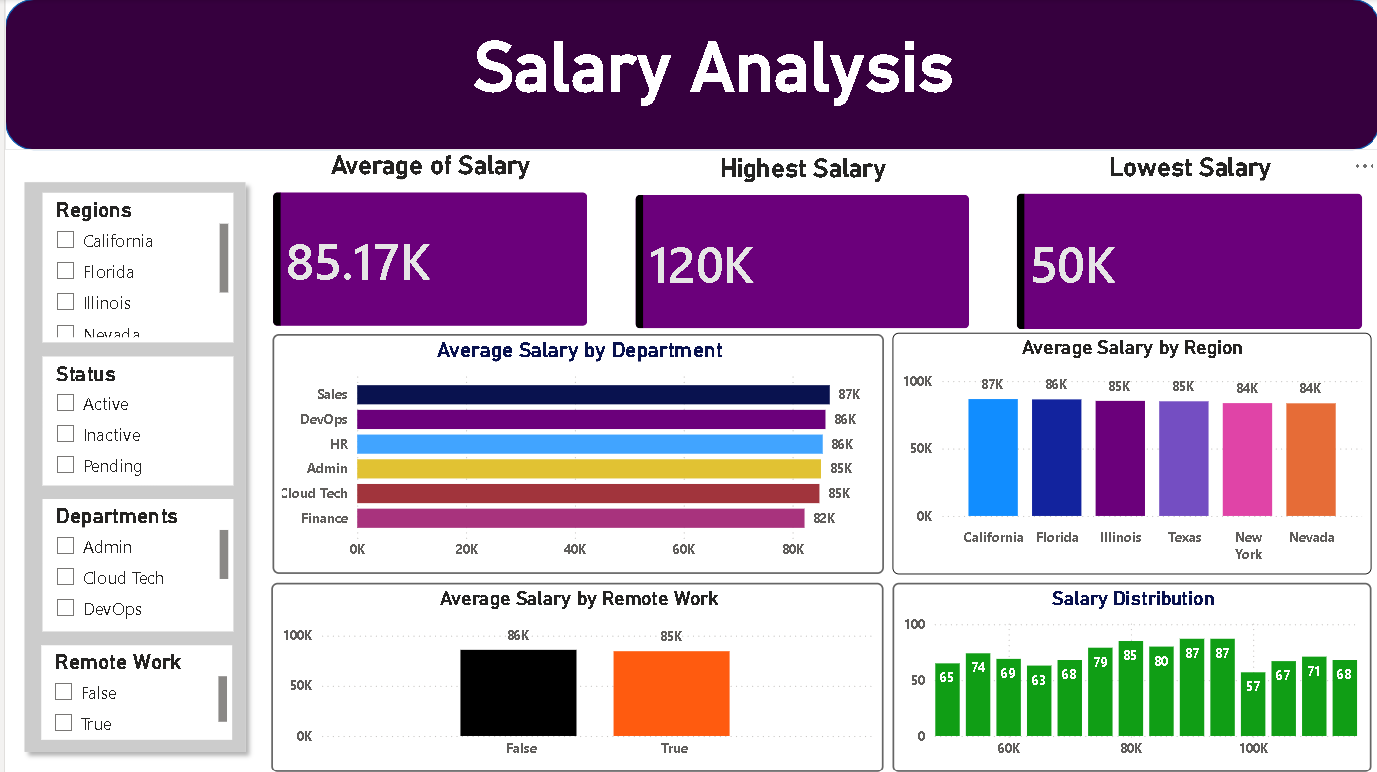

The dashboard page shown, as its layout file describes it:
{"tool":"powerbi","page":{"name":"Page 2","canvas":[1280,720],"ordinal":1},"visuals":[{"type":"cardVisual","title":"Average of Salary","fields":{"Data":["Avg(public employee_details.salary)"]},"box":[232.6,140.7,326.7,180.2],"z":0},{"type":"cardVisual","title":"Highest Salary","fields":{"Data":["public employee_details.Highest Salary"]},"box":[569.8,143,344.2,180.2],"z":1000},{"type":"cardVisual","title":"Lowest Salary","fields":{"Data":["public employee_details.Lowest Salary"]},"box":[924.4,141.9,355.8,182.6],"z":2000},{"type":"clusteredBarChart","title":"Average Salary by Department","fields":{"Category":["public employee_details.department"],"Y":["Avg(public employee_details.salary)"]},"box":[248.8,311.6,568.6,223.3],"z":3000},{"type":"shape","box":[0,0,1280.2,140.7],"z":4000},{"type":"textbox","box":[430.2,19.8,850,132.6],"z":5000},{"type":"clusteredColumnChart","title":"Average Salary by Region","fields":{"Category":["public employee_details.region"],"Y":["Avg(public employee_details.salary)"]},"box":[825.6,310.5,445.4,224.4],"z":6000},{"type":"clusteredColumnChart","title":"Average Salary by Remote Work","fields":{"Category":["public employee_details.remote_work"],"Y":["Avg(public employee_details.salary)"]},"box":[247.7,543,569.8,176.7],"z":7000},{"type":"clusteredColumnChart","fields":{"Y":["CountNonNull(public employee_details.employee_id)"],"Category":["public employee_details.salary (bins)"]},"box":[825.6,543,445.4,176.7],"z":8000},{"type":"shape","box":[9.3,161.6,223.3,547.7],"z":13000},{"type":"slicer","fields":{"Values":["public employee_details.region"]},"box":[34.9,180.2,177.9,139.5],"z":13500},{"type":"slicer","fields":{"Values":["public employee_details.status"]},"box":[34.9,332.6,177.9,119.8],"z":14000},{"type":"slicer","fields":{"Values":["public employee_details.department"]},"box":[34.9,465.1,177.9,123.3],"z":14500},{"type":"slicer","fields":{"Values":["public employee_details.remote_work"]},"box":[33.7,601.2,177.9,88.4],"z":15000}]}

Visuals, with their boxes in screenshot pixels (x1, y1, x2, y2), scaled from the page's 1280x720 canvas onto the 1377x772 screenshot:
"Average of Salary" cardVisual: (250, 151, 602, 344)
"Highest Salary" cardVisual: (613, 153, 983, 347)
"Lowest Salary" cardVisual: (994, 152, 1376, 348)
"Average Salary by Department" clusteredBarChart: (268, 334, 879, 574)
shape: (0, 0, 1376, 151)
textbox: (463, 21, 1376, 163)
"Average Salary by Region" clusteredColumnChart: (888, 333, 1367, 574)
"Average Salary by Remote Work" clusteredColumnChart: (266, 582, 879, 771)
clusteredColumnChart - CountNonNull(public employee_details.employee_id) x public employee_details.salary (bins): (888, 582, 1367, 771)
shape: (10, 173, 250, 761)
slicer - public employee_details.region: (38, 193, 229, 343)
slicer - public employee_details.status: (38, 357, 229, 485)
slicer - public employee_details.department: (38, 499, 229, 631)
slicer - public employee_details.remote_work: (36, 645, 228, 739)
